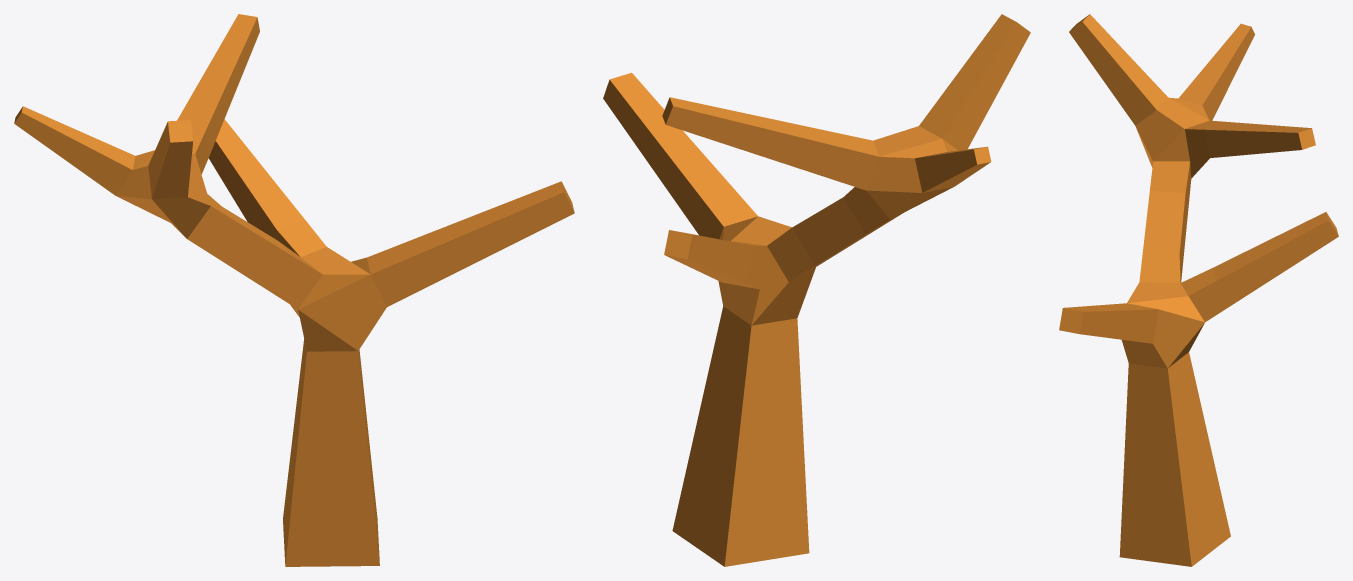
File: Tree2.fbx
The picture shows the model from 3 angles, left to right: view 1: azimuth 30°, elevation 25°; view 2: azimuth 150°, elevation 25°; view 3: azimuth 270°, elevation 25°; orthographic projection. The views are drawn at different scales.
Visible parts, largest first — view 1: Cube; view 2: Cube; view 3: Cube.
Part boxes in pixels (<box>): Cube: <box>14,14,574,566</box>; Cube: <box>603,14,1030,566</box>; Cube: <box>1059,14,1338,566</box>.
Size of the model in its own units: 72.75 by 77.01 by 43.79.
